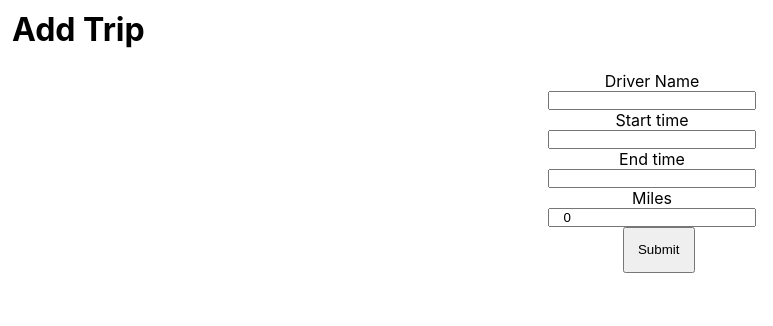
Test: AddTrip › should tell the driver that there was no match for the driver
The width and height of the screenshot is (773, 326).
Type "no one" into the field labelled "Driver Name". click: point(652, 100)
box: [548,91,756,110]
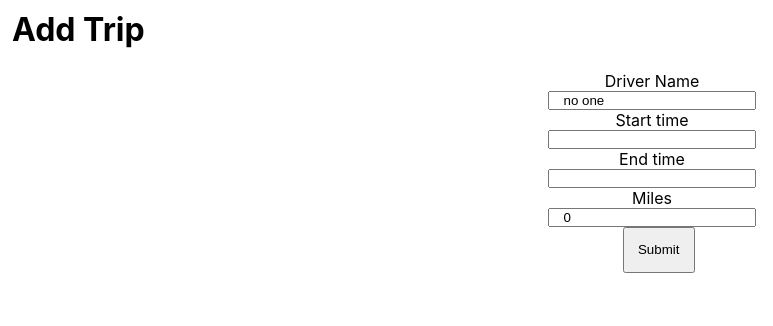
Click the button "Submit". click: point(659, 250)
box: [623,227,695,273]
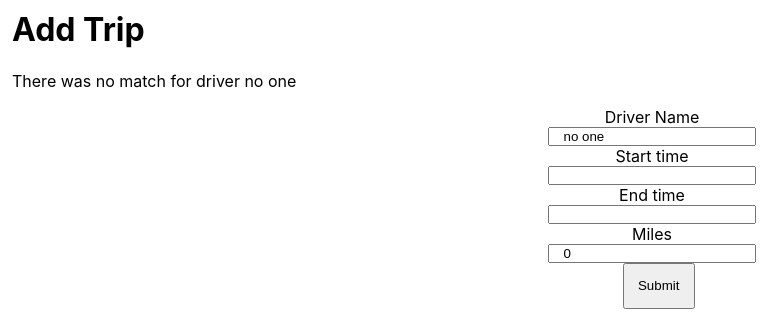
Result: the text "There was no match for driver no one" is shown at [12,71,296,91]
